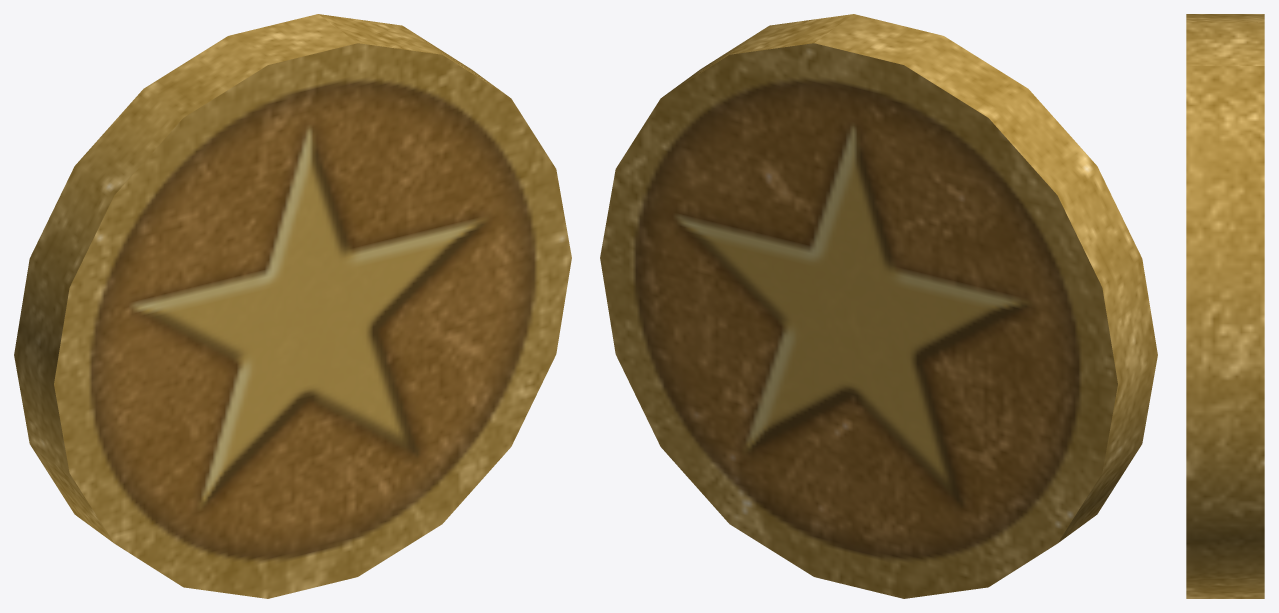
Rendered from GAM0110016.fbx.
3 views of the same model, side by side, from view 1: azimuth 30°, elevation 25°; view 2: azimuth 150°, elevation 25°; view 3: azimuth 270°, elevation 25° (orthographic).
Parts seen in each view (by area): view 1: smGAM0110016; view 2: smGAM0110016; view 3: smGAM0110016.
Part boxes in pixels (x1,y1,x2,y2): smGAM0110016: (14,14,571,598); smGAM0110016: (600,14,1157,598); smGAM0110016: (1186,14,1264,598).
Size of the model in its own units: 14.75 by 14.52 by 1.97.
1 material, 1 textured.
